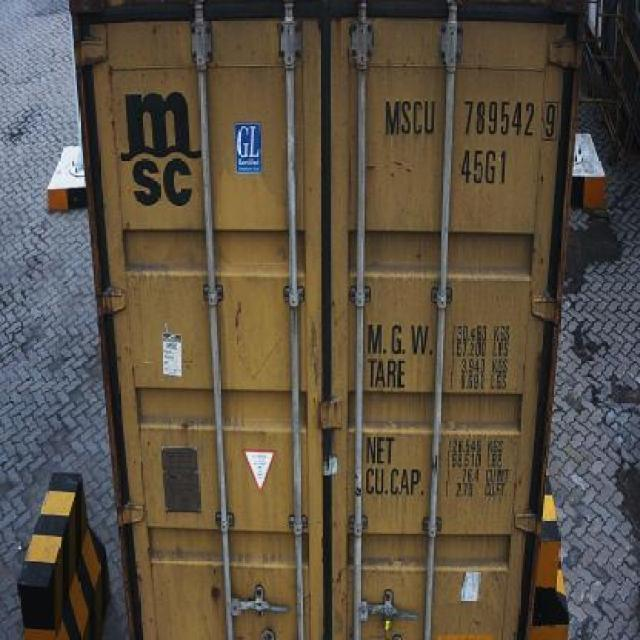ISO: (456, 150, 508, 183)
container_number: (392, 102, 561, 136)
